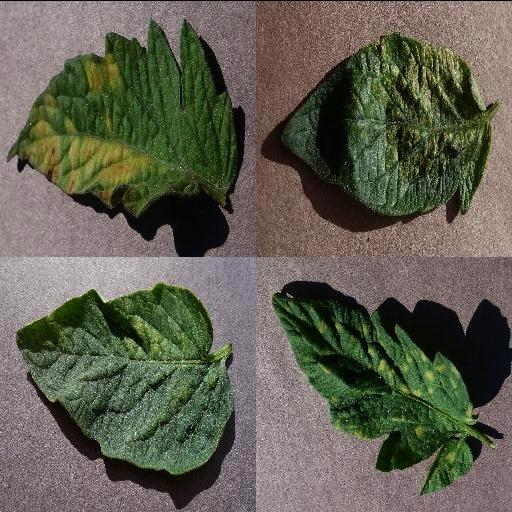Leaf Mold: (5, 17, 239, 216), (270, 290, 476, 492)
Spider Mites: (17, 283, 233, 475), (279, 32, 491, 216)
